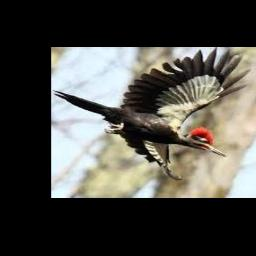Woodpecker: (53, 47, 251, 179)
